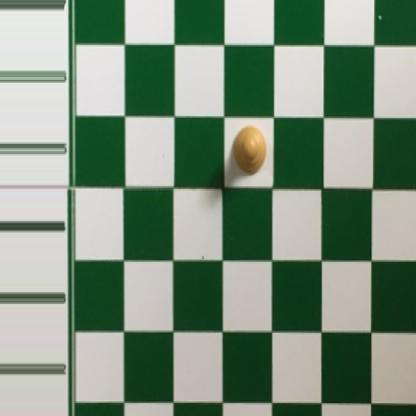white-pawn: (231, 125, 268, 179)
